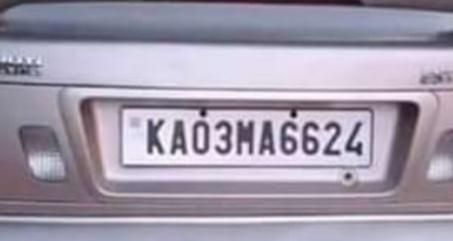0: (190, 118, 211, 157)
2: (323, 119, 343, 157)
3: (212, 120, 234, 159)
4: (345, 117, 364, 157)
6: (300, 115, 321, 161), (280, 116, 298, 157)
A: (257, 115, 276, 158), (169, 117, 188, 159)
K: (144, 115, 166, 159)
M: (234, 116, 255, 160)
